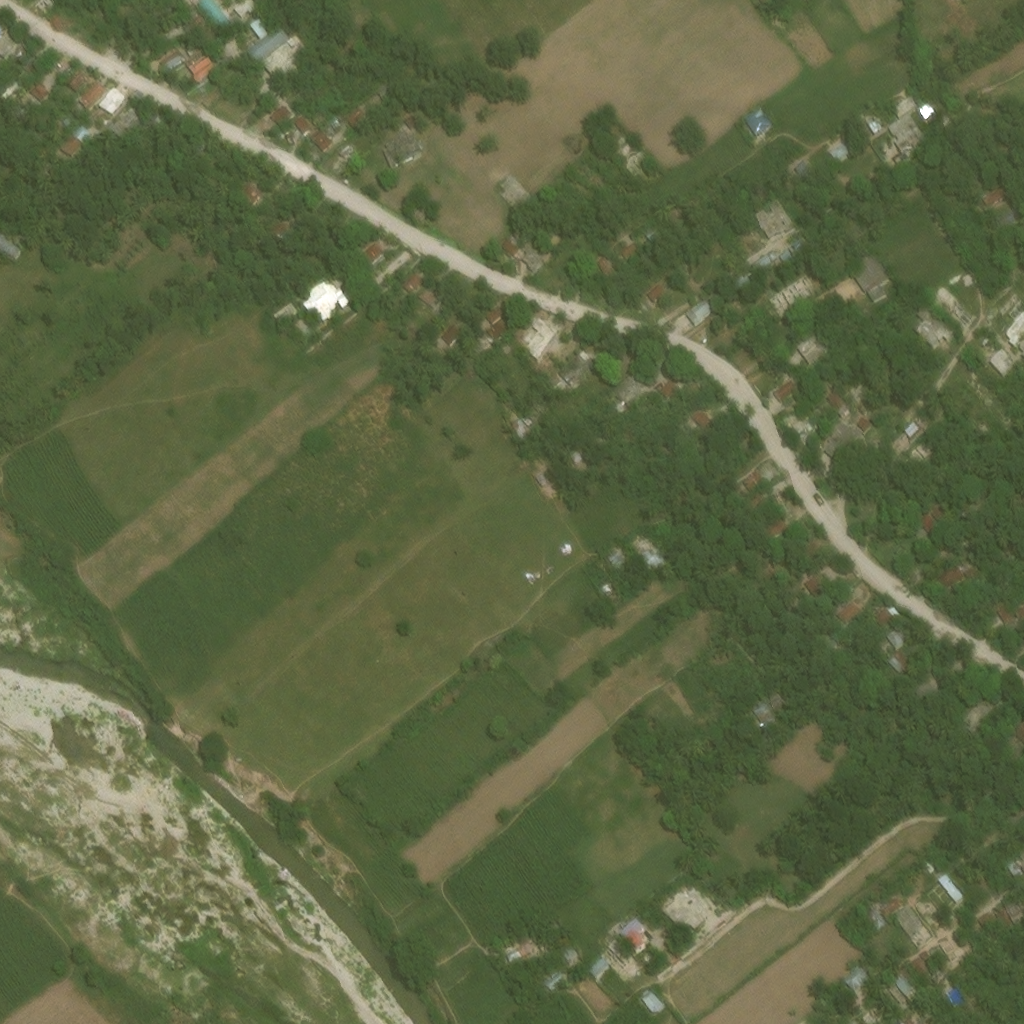major_damage: (338, 144, 351, 156)
minor_damage: (910, 304, 953, 346), (753, 195, 793, 234), (381, 130, 420, 165), (820, 411, 859, 446), (108, 105, 142, 138), (76, 76, 108, 107), (613, 368, 643, 400), (797, 331, 827, 360), (187, 52, 216, 77), (0, 78, 28, 103), (62, 63, 88, 88), (344, 103, 371, 127), (833, 591, 860, 615), (685, 293, 712, 317), (736, 456, 761, 480), (568, 341, 594, 364), (758, 709, 780, 734), (751, 245, 777, 266), (485, 310, 508, 333), (157, 43, 183, 63), (884, 643, 907, 665), (311, 128, 332, 149), (0, 30, 17, 55), (557, 354, 579, 373), (592, 248, 612, 268), (772, 375, 793, 394), (825, 382, 844, 402), (931, 101, 950, 120), (416, 284, 436, 302), (961, 710, 981, 728), (21, 54, 40, 72), (987, 183, 1006, 201), (994, 599, 1012, 617), (527, 327, 544, 346), (760, 505, 779, 522), (1000, 208, 1020, 224), (497, 331, 514, 348), (875, 601, 892, 618), (188, 5, 203, 20), (746, 479, 761, 494), (618, 235, 634, 249), (31, 82, 47, 96), (768, 694, 785, 707), (1013, 719, 1023, 738), (610, 394, 624, 407), (789, 499, 803, 512), (1005, 613, 1019, 626), (879, 107, 892, 119), (1013, 600, 1023, 614), (207, 5, 218, 16), (547, 367, 558, 377), (0, 25, 4, 34)
no_damage: (302, 281, 352, 320), (246, 19, 289, 58), (61, 121, 91, 156), (686, 399, 717, 426), (935, 558, 962, 582), (912, 501, 938, 525), (790, 154, 814, 179), (292, 112, 316, 133), (271, 102, 293, 123), (656, 370, 678, 391), (438, 319, 460, 339), (240, 180, 261, 200), (482, 296, 503, 316), (899, 409, 920, 429), (363, 242, 382, 262), (403, 269, 422, 287), (800, 564, 819, 582), (496, 232, 514, 248), (999, 353, 1015, 370), (250, 13, 265, 29), (961, 558, 975, 571), (853, 404, 866, 417), (830, 144, 844, 156)
unclassified: (619, 918, 646, 952), (894, 905, 923, 933), (877, 892, 904, 915), (918, 940, 943, 963), (890, 615, 914, 636), (0, 236, 21, 259), (546, 970, 567, 991), (844, 967, 864, 989), (484, 345, 504, 366), (517, 938, 536, 957), (888, 981, 907, 1000), (973, 950, 991, 968), (926, 454, 945, 471), (994, 905, 1011, 924), (1006, 859, 1023, 877), (565, 397, 583, 413), (503, 353, 519, 370), (1010, 901, 1023, 920), (708, 649, 724, 664), (732, 452, 749, 466), (643, 277, 659, 291), (723, 648, 738, 662), (1014, 850, 1023, 873), (1006, 899, 1018, 912), (8, 109, 21, 120), (901, 1014, 916, 1023), (36, 37, 48, 48), (418, 311, 430, 321), (855, 392, 864, 400), (616, 250, 624, 258), (888, 604, 895, 611)
